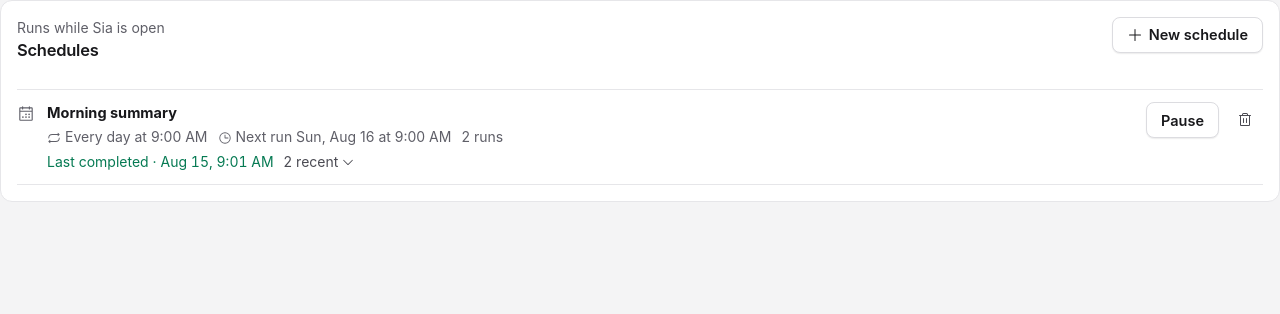
Scenario: local parity renderer contracts › shows the latest schedule outcome and an expandable bounded run history
The image size is (1280, 314).
Expected: the element with test id "schedule-next-run" shows "Next", [236,128,451,145]
Expected: the text "Last completed · Aug 15, 9:01 AM" is shown, [47,152,274,172]
Click the button with aria-label "Show run history for Morning summary".
click(319, 162)  # box [284,152,355,172]
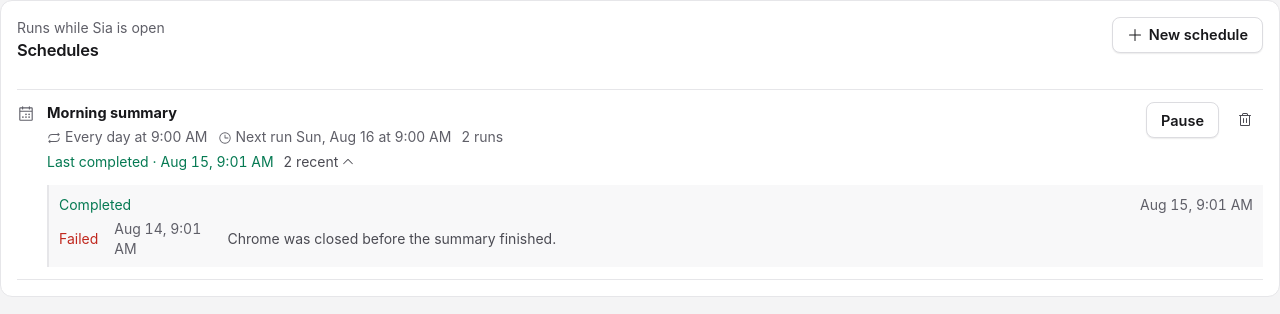
Result: the list named "Run history for Morning summary" shows "Completed" at [59,196,131,213]
Result: the list named "Run history for Morning summary" shows "Failed" at [59,230,98,247]
Result: the list named "Run history for Morning summary" shows "Chrome was closed before the summary finished." at [227,230,556,247]
